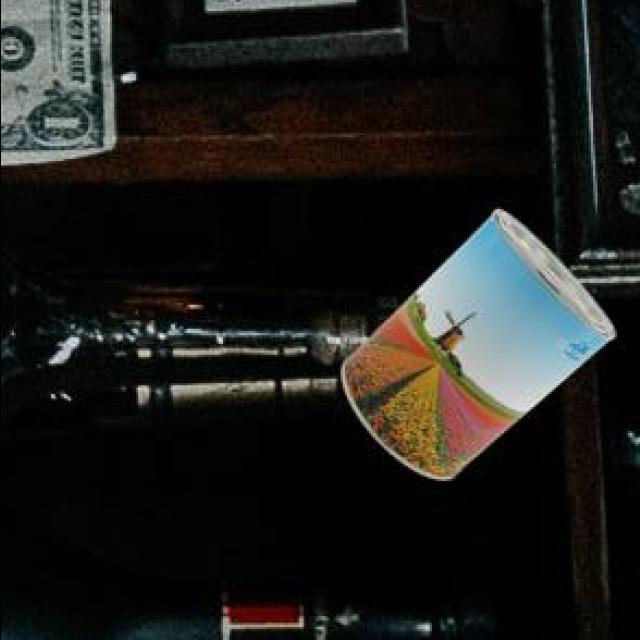logam: (343, 212, 617, 482)
